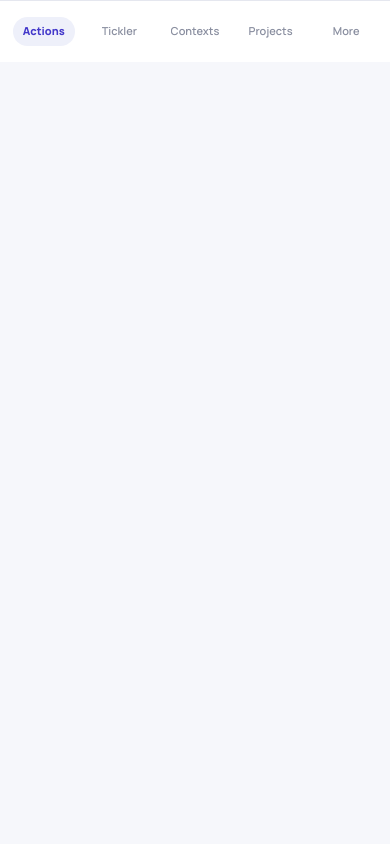
Test case: mobile navigation › reaches every section through the tab bar or the More sheet
Click the button "More" at (346, 32), box [308,1,384,62]
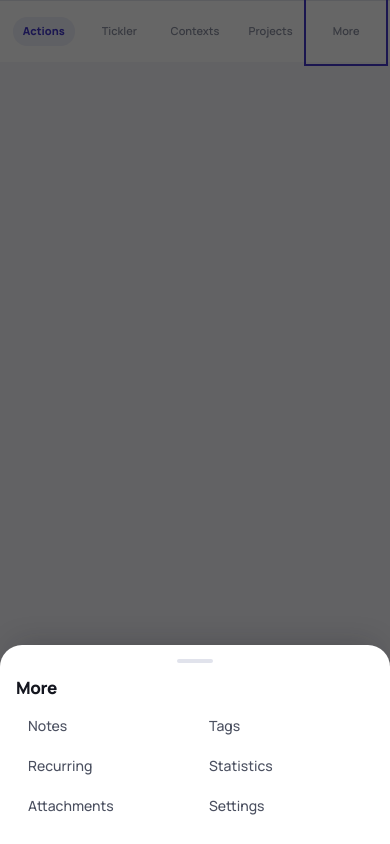
Expected: the link "Tags" is shown, [209,716,240,735]
Expected: the link "Recurring" is shown, [28,756,92,775]
Expected: the link "Statistics" is shown, [209,756,273,775]
